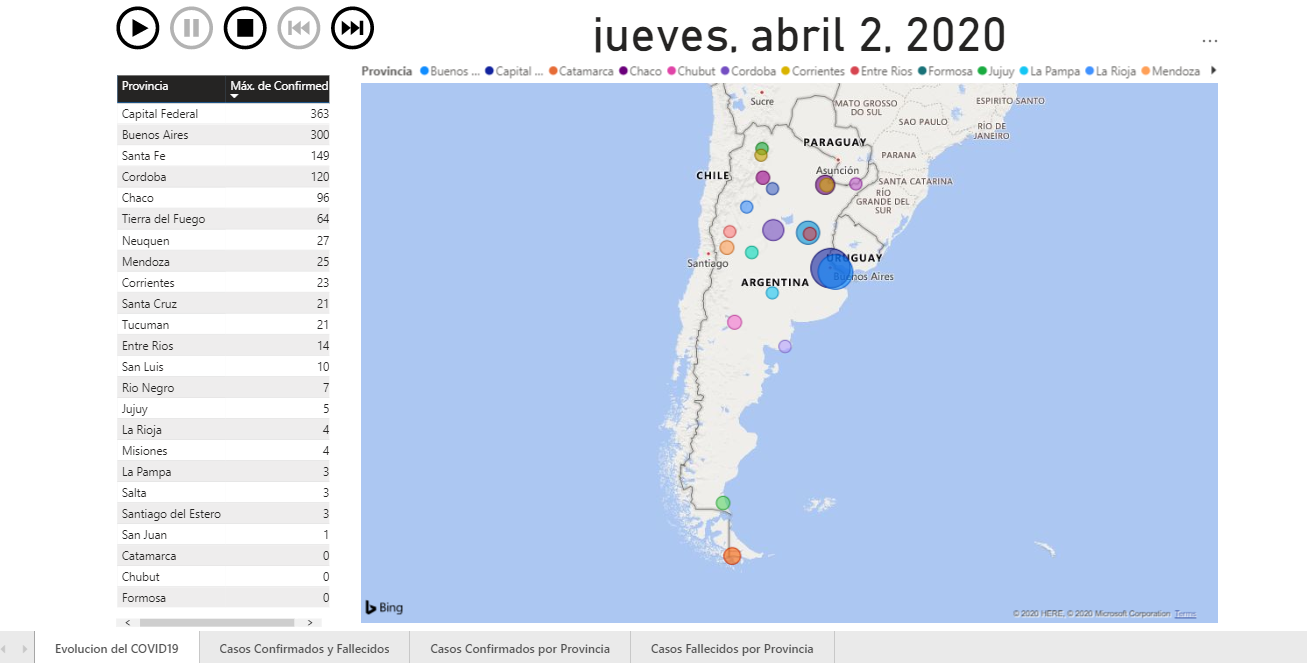

The dashboard page shown, as its layout file describes it:
{"tool":"powerbi","page":{"name":"Evolucion del COVID19","canvas":[1280,720],"ordinal":0},"visuals":[{"type":"map","fields":{"Y":["Lat_Long_Provincias_Argentinas.Latitud"],"X":["Lat_Long_Provincias_Argentinas.Longitud"],"Series":["Lat_Long_Provincias_Argentinas.Provincia"],"Size":["Max(COVID19_Evolution.Confirmed)"]},"box":[291.8,61.9,988.2,626.2],"z":0},{"type":"PBI_CV_16948668_E17D_454B_8664_2F2C470EA8C1","fields":{"category":["COVID19_Evolution.Date"]},"box":[12.4,0,305.5,66.1],"z":1000},{"type":"card","fields":{"Values":["Max(COVID19_Evolution.Date)"]},"box":[344.4,0,905.4,65.5],"z":2000},{"type":"tableEx","fields":{"Values":["COVID19_Evolution.Provincia","Max(COVID19_Evolution.Confirmed)"]},"box":[12.4,82.6,253.2,638.6],"z":3000},{"type":"textbox","box":[291.8,688.2,988.2,31.7],"z":4000}]}

Visuals, with their boxes in screenshot pixels (x1, y1, x2, y2):
map - Lat_Long_Provincias_Argentinas.Latitud x Lat_Long_Provincias_Argentinas.Longitud: bbox=[361, 71, 1228, 620]
PBI_CV_16948668_E17D_454B_8664_2F2C470EA8C1 - COVID19_Evolution.Date: bbox=[116, 17, 384, 75]
card - Max(COVID19_Evolution.Date): bbox=[407, 17, 1201, 74]
tableEx - COVID19_Evolution.Provincia x Max(COVID19_Evolution.Confirmed): bbox=[116, 89, 338, 649]
textbox: bbox=[361, 620, 1228, 648]
